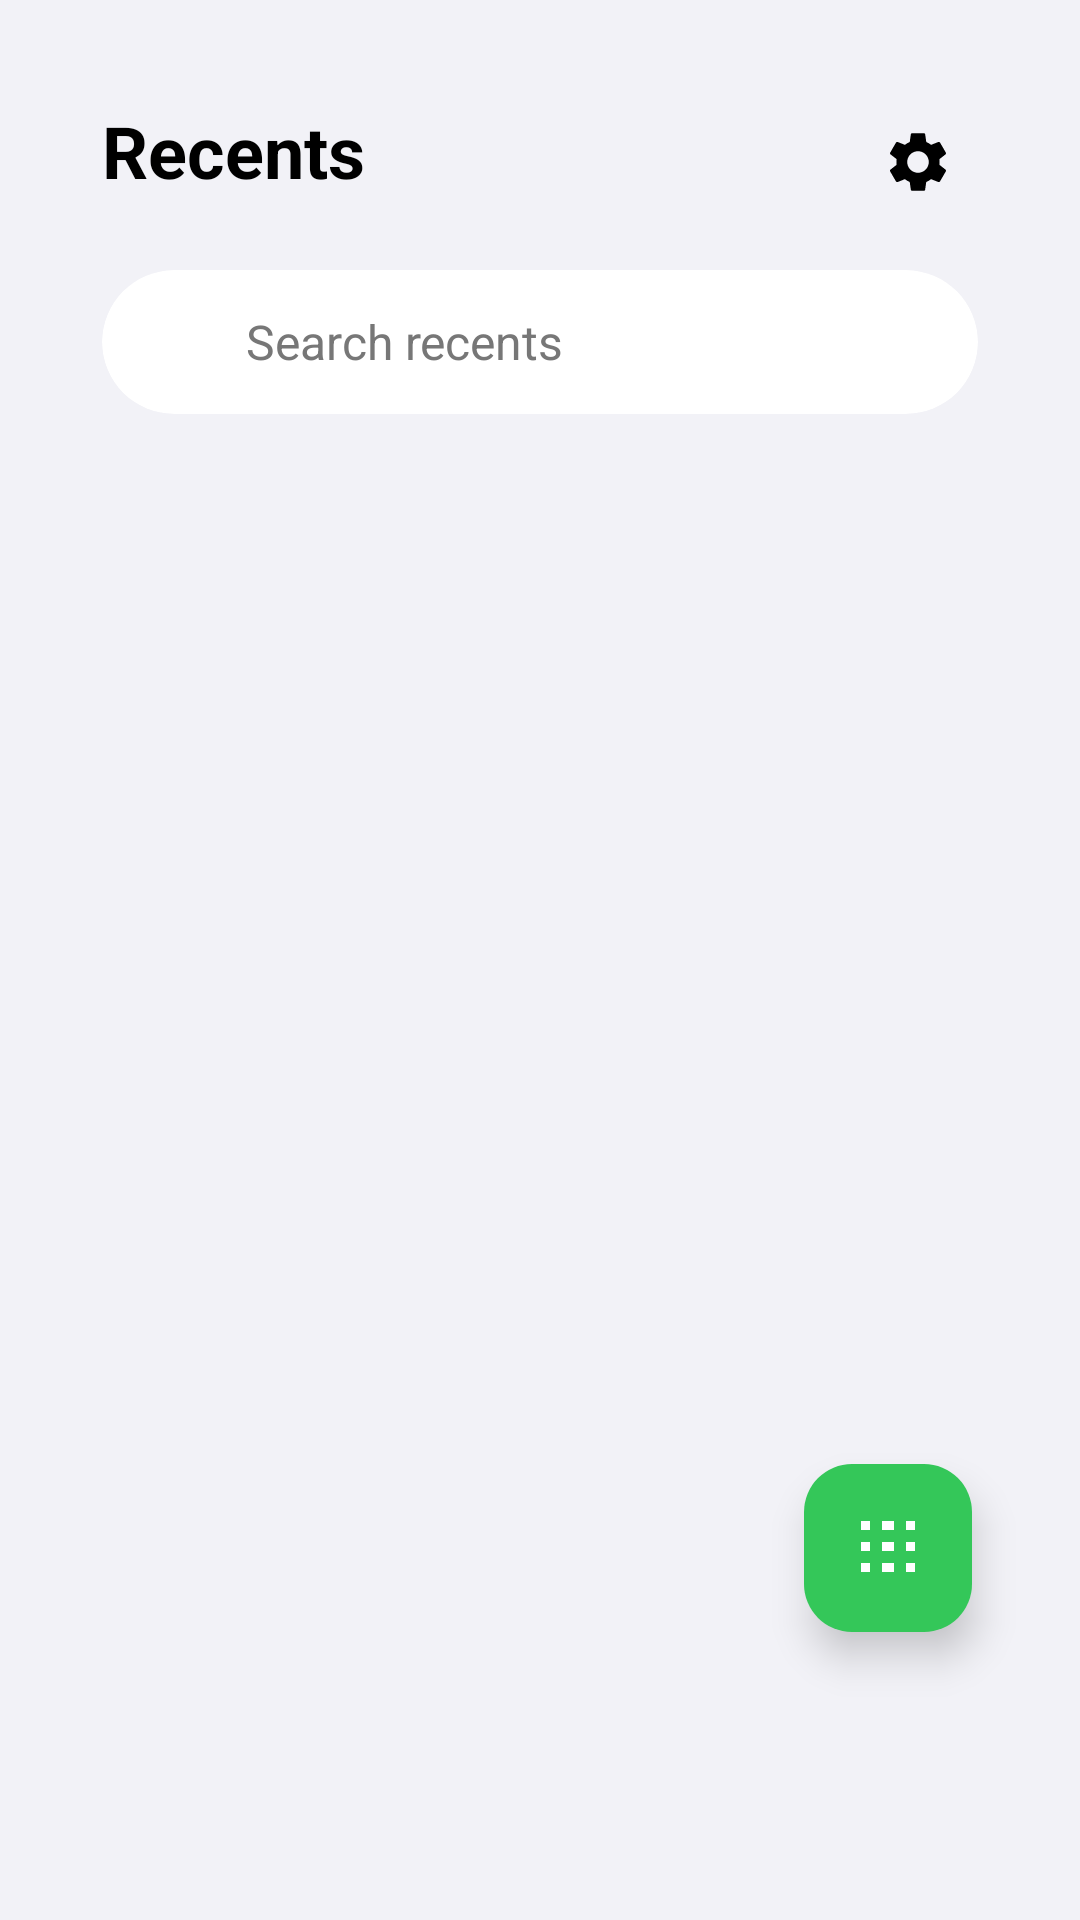

Named icons in this screenshot (1080 x 1920) and their centers, [x,y]:
keypad: [888,1548]
settings: [918,162]
